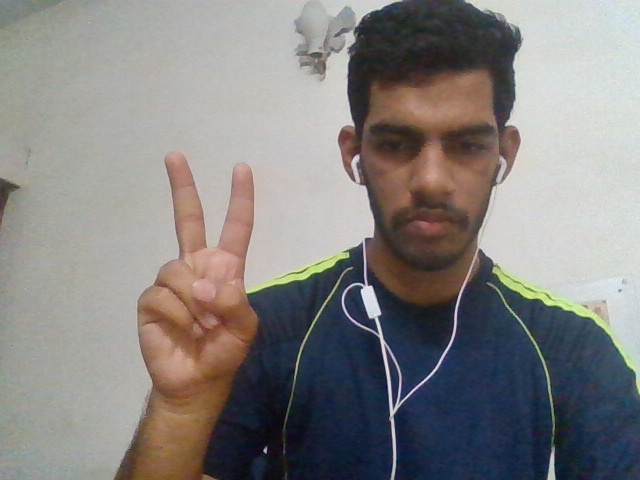bye: (109, 149, 289, 391)
